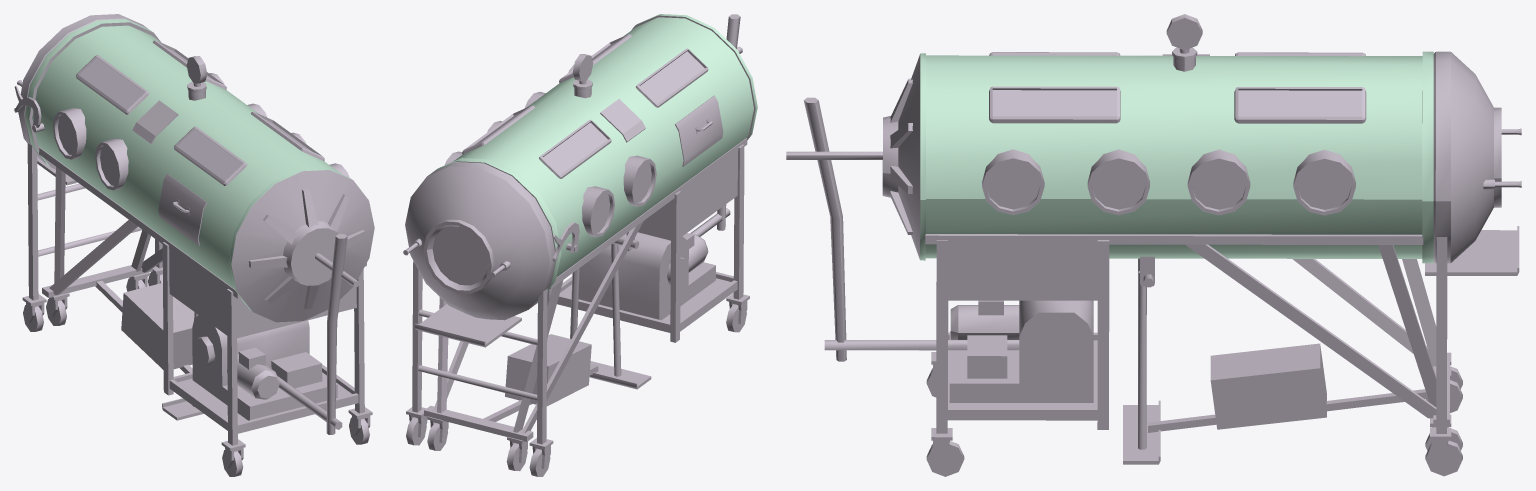
Rendered from caldron1.fbx.
3 views of the same model, side by side, from view 1: azimuth 30°, elevation 25°; view 2: azimuth 150°, elevation 25°; view 3: azimuth 270°, elevation 25° (orthographic). The views are drawn at different scales.
Parts seen in each view (by area): view 1: caldron_SHHC_001; view 2: caldron_SHHC_001; view 3: caldron_SHHC_001.
Part boxes in pixels (bbox=[...]): caldron_SHHC_001: bbox=[14, 14, 374, 476]; caldron_SHHC_001: bbox=[403, 14, 757, 476]; caldron_SHHC_001: bbox=[786, 14, 1521, 476].
Bounding box in the file's own units: 121 × 251 × 398.
